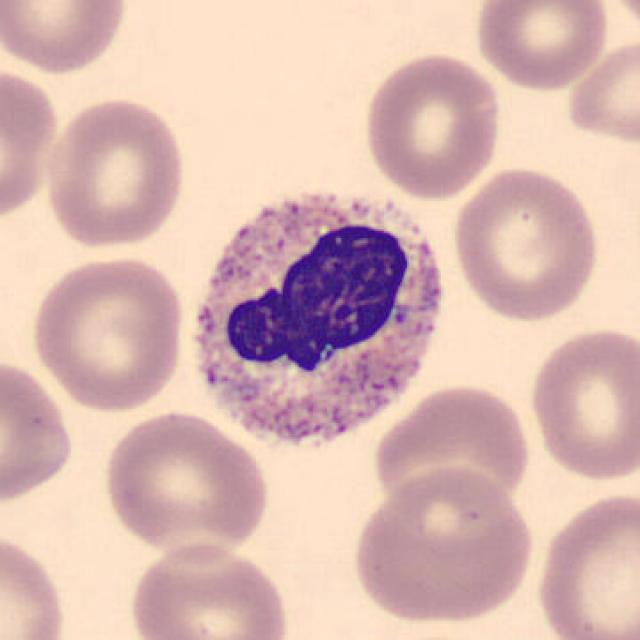neutrophil: (197, 187, 446, 447)
rbc: (346, 458, 532, 628), (104, 403, 272, 567), (36, 251, 188, 412), (39, 95, 188, 259), (454, 164, 599, 324), (365, 372, 524, 516), (362, 50, 502, 210), (533, 483, 640, 640), (537, 323, 640, 483), (131, 542, 287, 640), (470, 0, 610, 94), (0, 0, 130, 81), (0, 367, 74, 506), (0, 64, 59, 221), (0, 522, 75, 640), (566, 44, 640, 150)
